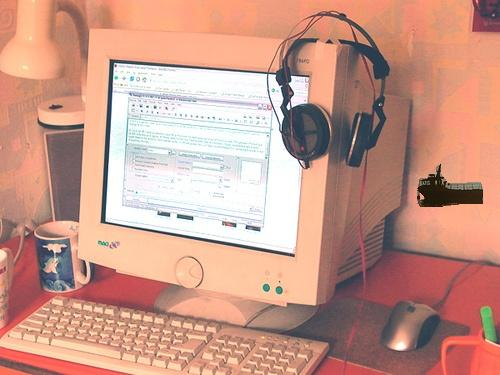tampered: (418, 165, 483, 207)
